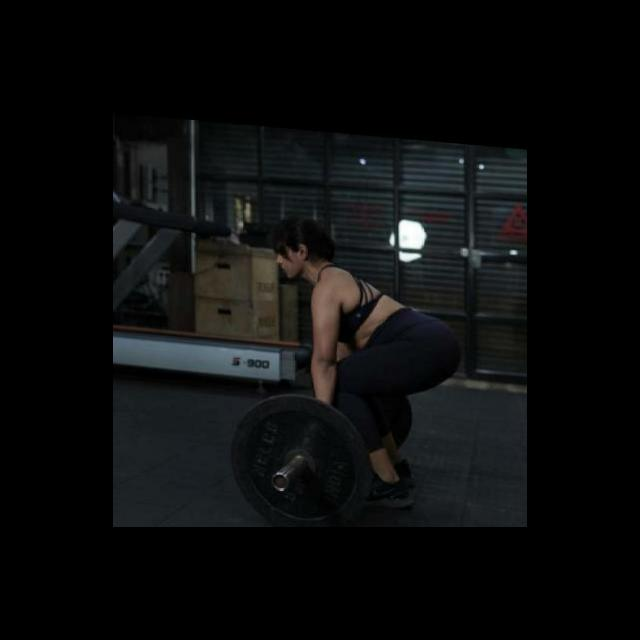barbell: (228, 384, 367, 527)
